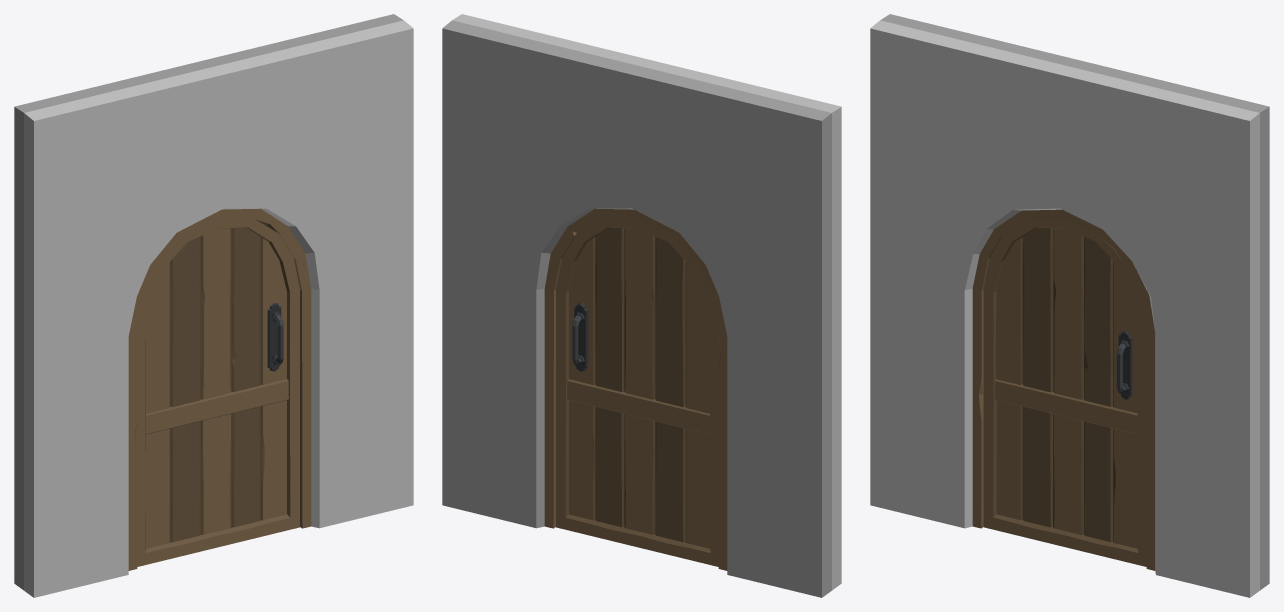
Rendered from SM_Bld_Wall_Manor_Door_01.fbx.
3 views of the same model, side by side, from view 1: azimuth 30°, elevation 25°; view 2: azimuth 150°, elevation 25°; view 3: azimuth 330°, elevation 25° (orthographic).
Visible parts, largest first — view 1: SM_Bld_Wall_Manor_Door_01, SM_Bld_Wall_Manor_Door_01_Door; view 2: SM_Bld_Wall_Manor_Door_01, SM_Bld_Wall_Manor_Door_01_Door; view 3: SM_Bld_Wall_Manor_Door_01, SM_Bld_Wall_Manor_Door_01_Door.
Part boxes in pixels (left/top/right/bottom): SM_Bld_Wall_Manor_Door_01: left=14, top=14, right=413, bottom=597; SM_Bld_Wall_Manor_Door_01_Door: left=135, top=219, right=299, bottom=566; SM_Bld_Wall_Manor_Door_01: left=442, top=14, right=841, bottom=597; SM_Bld_Wall_Manor_Door_01_Door: left=556, top=219, right=719, bottom=566; SM_Bld_Wall_Manor_Door_01: left=870, top=14, right=1269, bottom=597; SM_Bld_Wall_Manor_Door_01_Door: left=983, top=219, right=1146, bottom=566.
Size of the model in its own units: 250 by 301 by 23.17.
